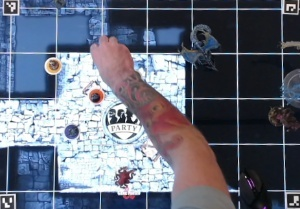orange: (86, 86, 104, 104)
violet: (63, 122, 81, 142)
yellow: (42, 54, 63, 77)
